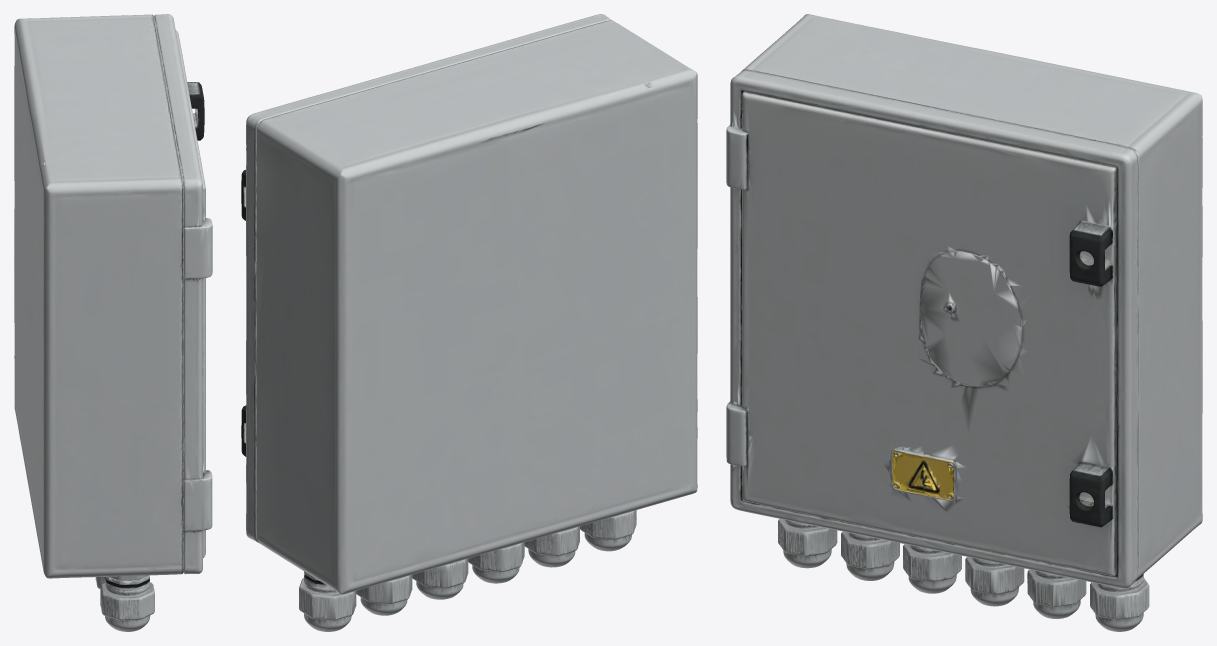
File: combiner.glb
The picture shows the model from 3 angles, left to right: view 1: azimuth 30°, elevation 25°; view 2: azimuth 150°, elevation 25°; view 3: azimuth 270°, elevation 25°; orthographic projection. The views are drawn at different scales.
Visible parts, largest first — view 1: tripo_node_5be7249f-05d3-4d8f-9d7c-c894a66429ea; view 2: tripo_node_5be7249f-05d3-4d8f-9d7c-c894a66429ea; view 3: tripo_node_5be7249f-05d3-4d8f-9d7c-c894a66429ea.
Boxes of the visible parts, x1=… form: tripo_node_5be7249f-05d3-4d8f-9d7c-c894a66429ea: x1=14, y1=14, x2=212, y2=631; tripo_node_5be7249f-05d3-4d8f-9d7c-c894a66429ea: x1=241, y1=14, x2=697, y2=631; tripo_node_5be7249f-05d3-4d8f-9d7c-c894a66429ea: x1=726, y1=14, x2=1202, y2=631.
Bounding box in the file's own units: 21117 × 32115 × 27317.
1 material, 1 textured.
